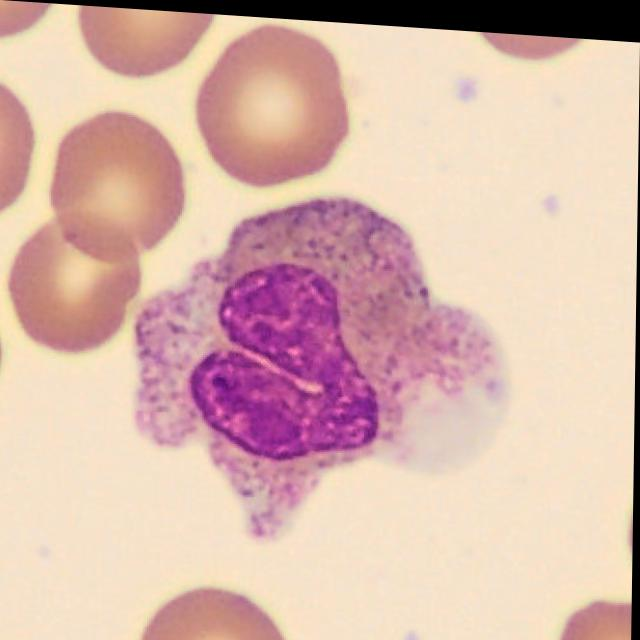Neutrofilo segmentado: (135, 192, 513, 536)
